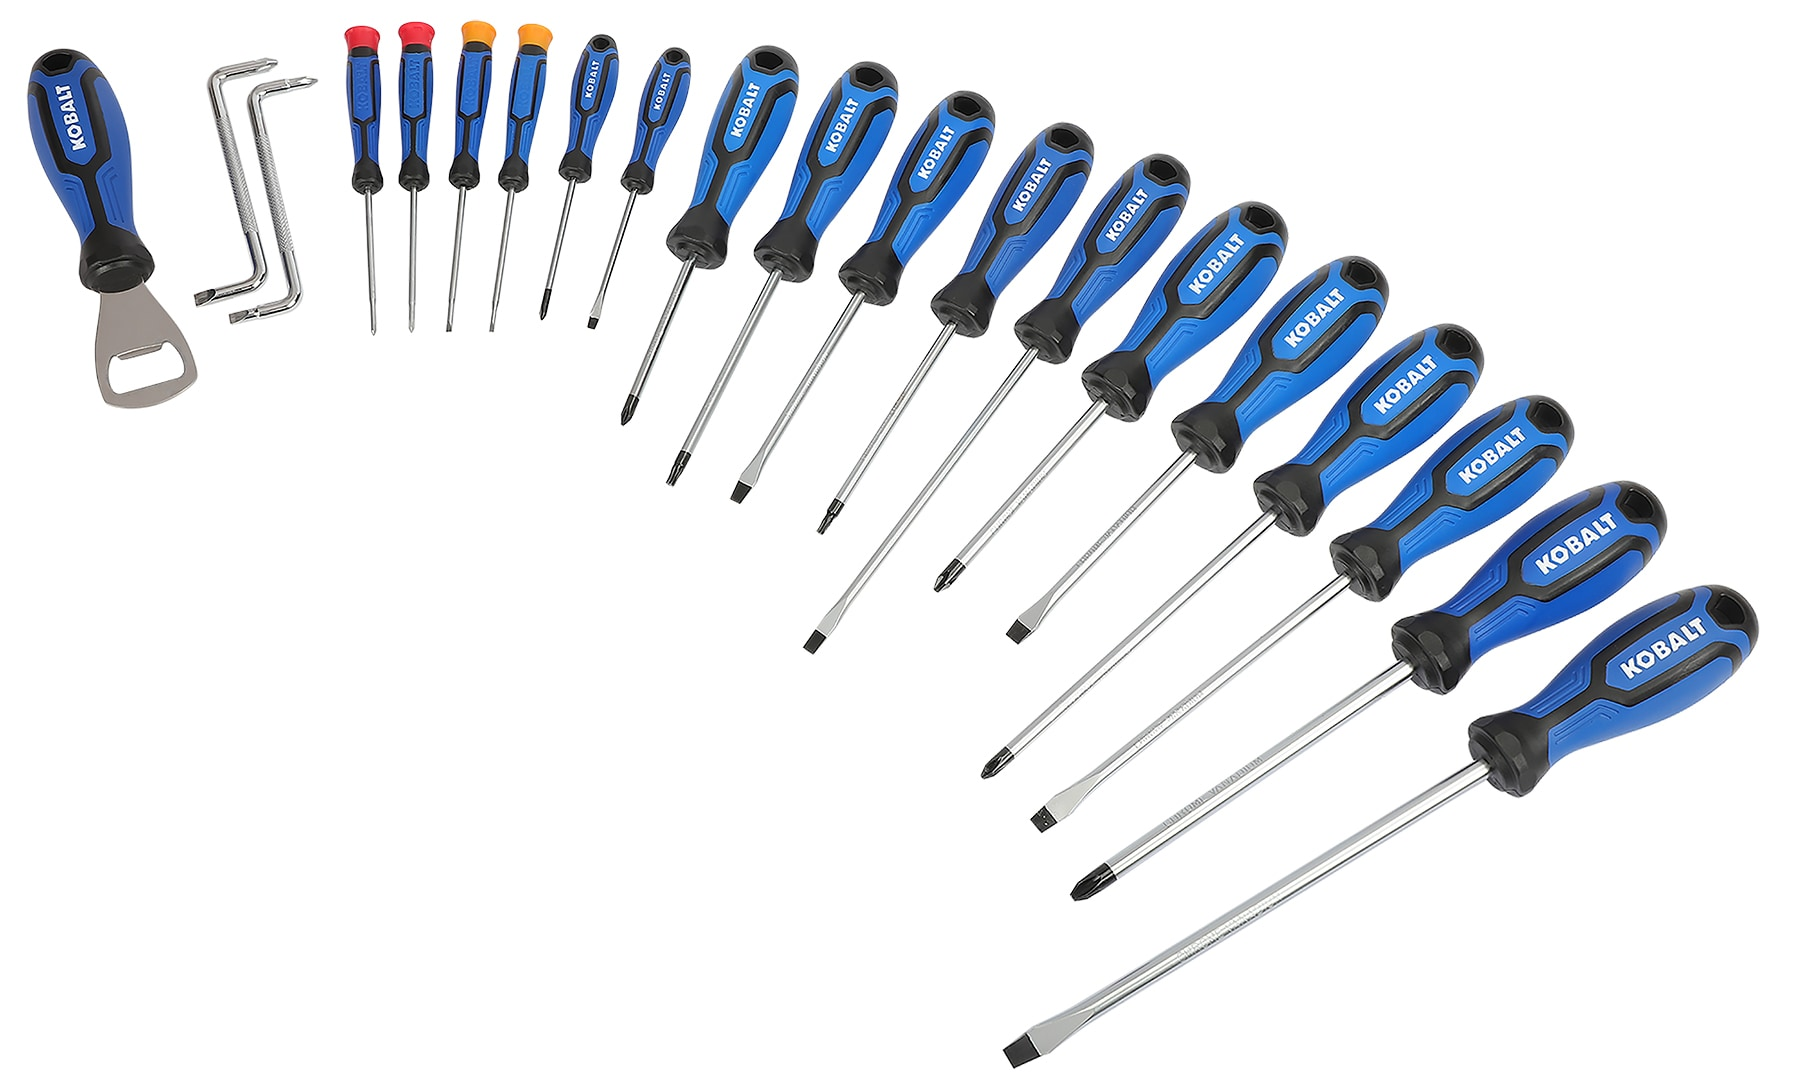screwdriver: (999, 585, 1767, 1067), (1070, 478, 1673, 902), (1025, 391, 1575, 840), (976, 321, 1490, 781), (798, 152, 1194, 659), (1008, 254, 1392, 648), (928, 193, 1292, 595), (725, 87, 1004, 502), (816, 116, 1094, 531), (663, 50, 908, 488), (615, 39, 809, 421), (582, 42, 696, 335), (525, 33, 624, 326), (483, 19, 558, 335), (337, 17, 392, 343), (444, 19, 499, 335), (397, 19, 437, 341)
